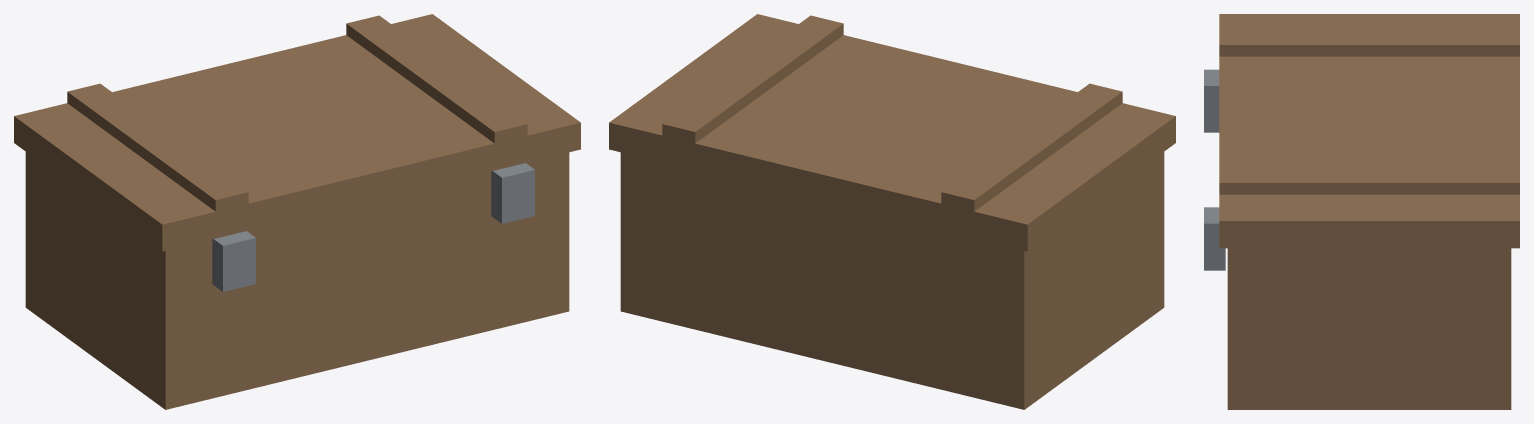
Rendered from wooden_ammo_crate.glb.
The picture shows the model from 3 angles, left to right: view 1: azimuth 30°, elevation 25°; view 2: azimuth 150°, elevation 25°; view 3: azimuth 270°, elevation 25°; orthographic projection.
Visible parts, largest first — view 1: world; view 2: world; view 3: world.
Boxes of the visible parts, x1=… form: world: x1=14, y1=14, x2=580, y2=409; world: x1=609, y1=14, x2=1175, y2=409; world: x1=1204, y1=14, x2=1519, y2=409.
Size of the model in its own units: 0.57 by 0.2625 by 0.3675.
